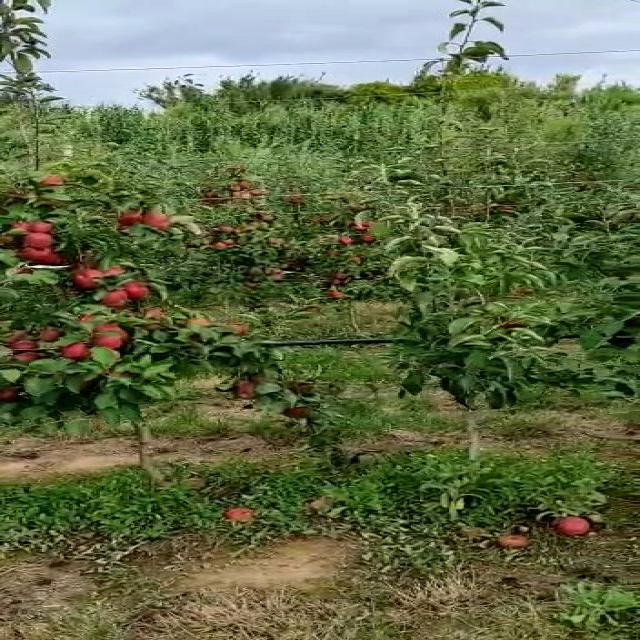100-_ripeness: (95, 323, 127, 353), (16, 231, 54, 255), (91, 290, 131, 308), (133, 209, 165, 231), (120, 278, 151, 300), (74, 271, 106, 288), (56, 342, 89, 358)
